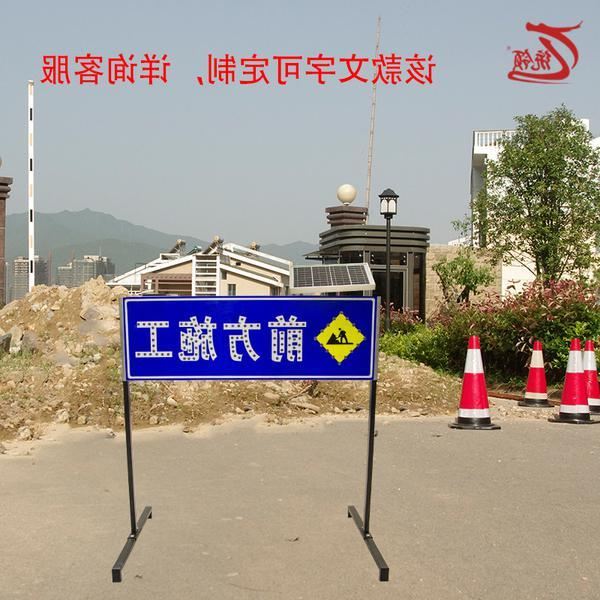sign: (124, 294, 374, 383)
